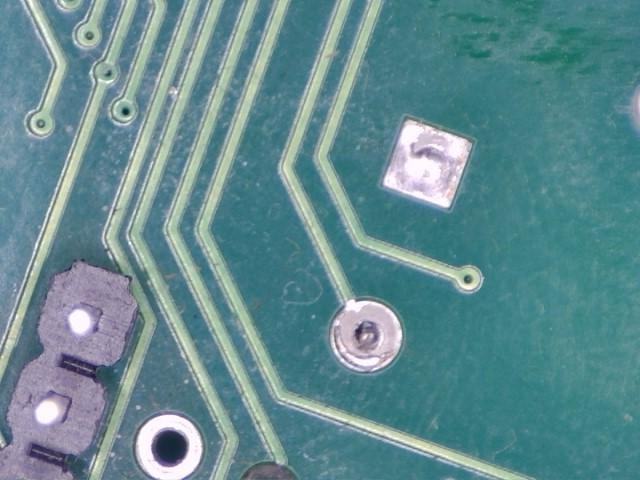pcb_defect: (330, 300, 403, 372)
